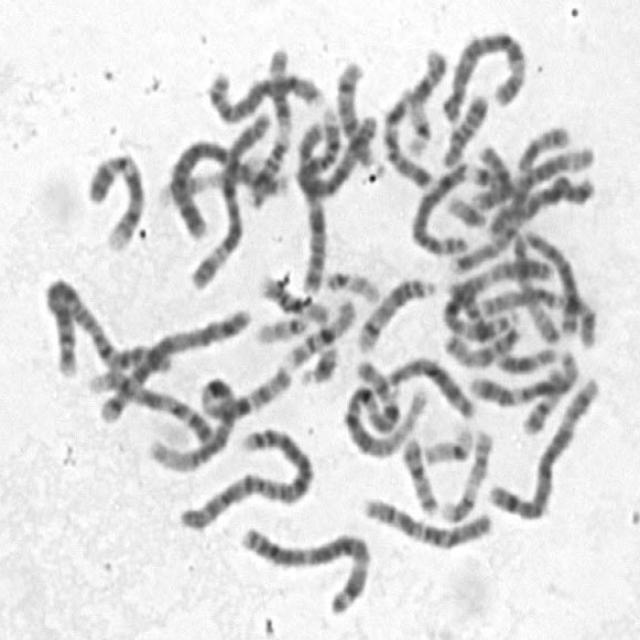A1: (143, 361, 293, 475), (340, 352, 430, 460)
A2: (173, 420, 316, 532), (39, 272, 175, 379)
A3: (234, 519, 374, 617), (440, 250, 558, 343)
B4: (165, 129, 289, 242), (289, 108, 380, 201)
B5: (93, 300, 252, 426), (484, 370, 604, 521)
C10: (356, 490, 497, 552), (472, 281, 600, 347)
C11: (245, 40, 294, 209), (156, 162, 298, 215)
C12: (470, 140, 600, 210), (465, 346, 580, 408)
C6: (185, 104, 273, 294), (435, 24, 530, 125)
C7: (441, 128, 576, 276), (377, 43, 448, 190)
C8: (203, 64, 327, 125), (407, 157, 472, 258)
C9: (88, 363, 217, 450), (79, 144, 149, 253)
D13: (372, 350, 477, 422), (528, 222, 582, 336)
D14: (352, 271, 438, 354), (330, 55, 379, 169)
D15: (509, 226, 563, 347), (441, 320, 523, 368)
E16: (282, 292, 359, 368), (256, 269, 332, 326)
E17: (436, 423, 496, 524), (446, 270, 493, 338)
E18: (438, 86, 492, 169), (460, 145, 516, 208)
F19: (420, 419, 476, 467), (401, 93, 434, 160)
F20: (396, 431, 442, 518), (518, 361, 567, 436)
G21: (293, 338, 343, 388), (444, 190, 490, 230)
G22: (320, 263, 382, 306), (251, 307, 312, 346)
X: (485, 169, 599, 242), (293, 114, 332, 294)
